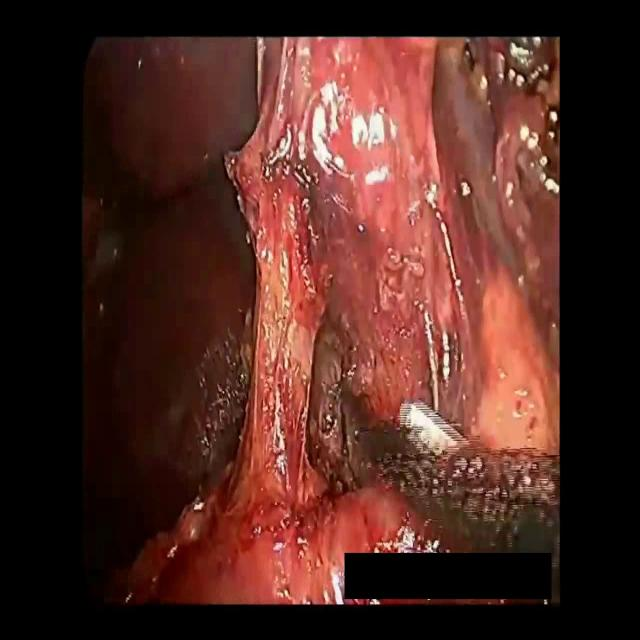surgical-area: (80, 40, 562, 604)
surgical-tool: (353, 428, 562, 556)
